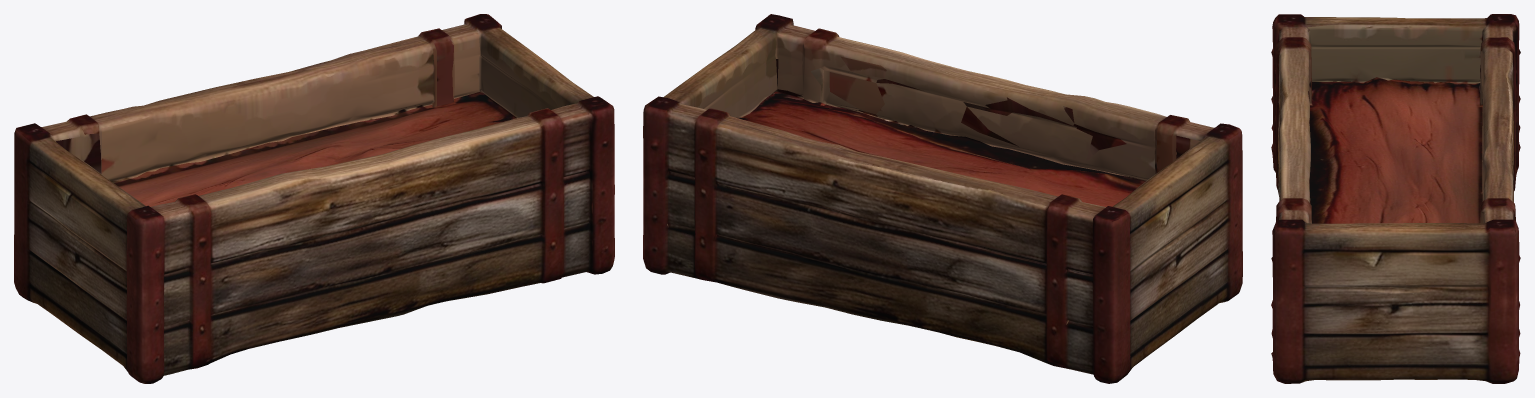
File: trough_textured.glb
3 renders of one model, left to right at view 1: azimuth 30°, elevation 25°; view 2: azimuth 150°, elevation 25°; view 3: azimuth 270°, elevation 25°, orthographic. The views are drawn at different scales.
Visible parts, largest first — view 1: temp_mesh.ply; view 2: temp_mesh.ply; view 3: temp_mesh.ply.
Part boxes in pixels (x1,y1,x2,y2): temp_mesh.ply: (14, 14, 614, 383); temp_mesh.ply: (643, 14, 1242, 383); temp_mesh.ply: (1271, 14, 1520, 383).
Bounding box in the file's own units: 1.99 × 0.6717 × 0.9592.
Materials: 1 (1 with a texture image).
